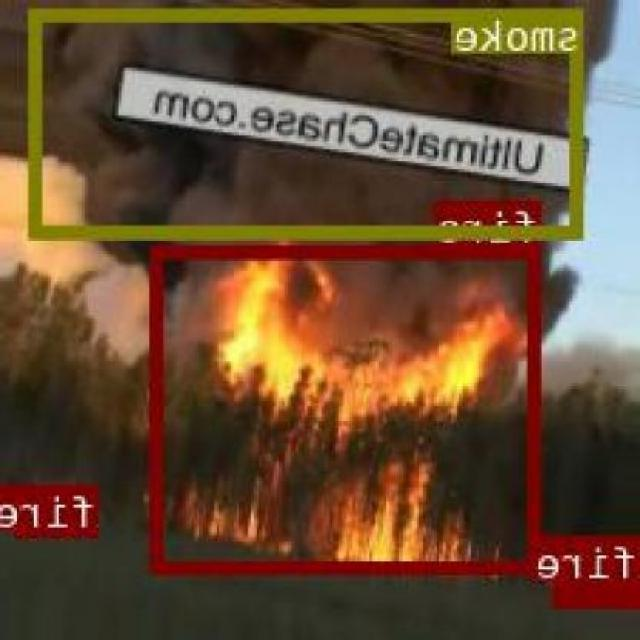Fire: (195, 252, 523, 420), (158, 458, 535, 560)
Smoke: (0, 0, 618, 310), (148, 255, 614, 385)
